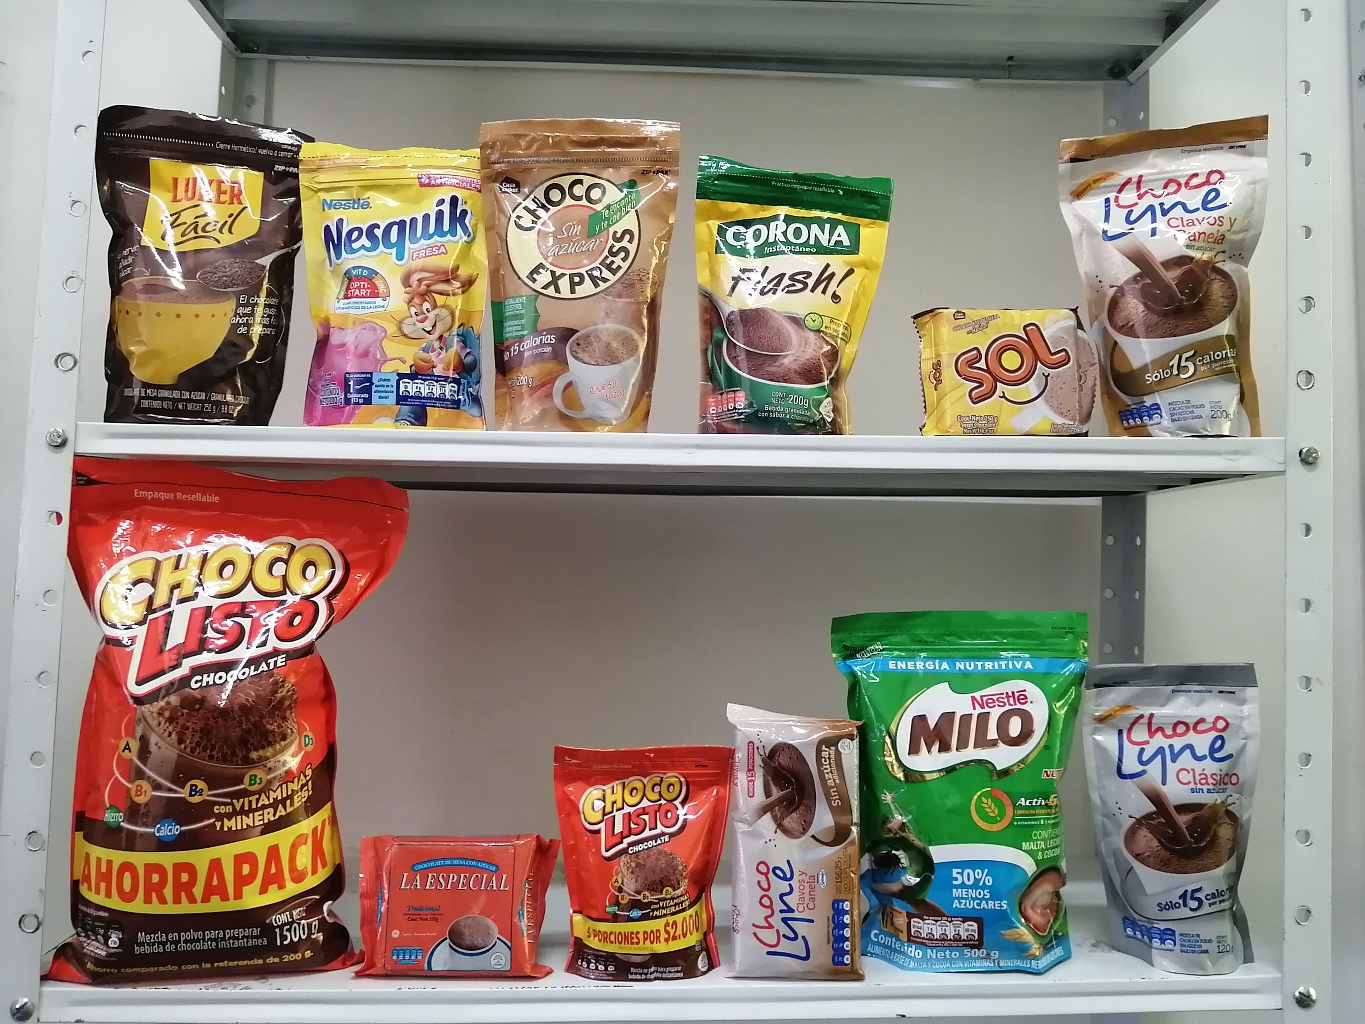COL0170103DYP1,500: (33, 442, 418, 991)
COL0170103DYP40000: (532, 727, 765, 995)
COL0170205DYP50000: (815, 594, 1111, 989)
COL0170305DYP20000: (272, 120, 506, 442)
